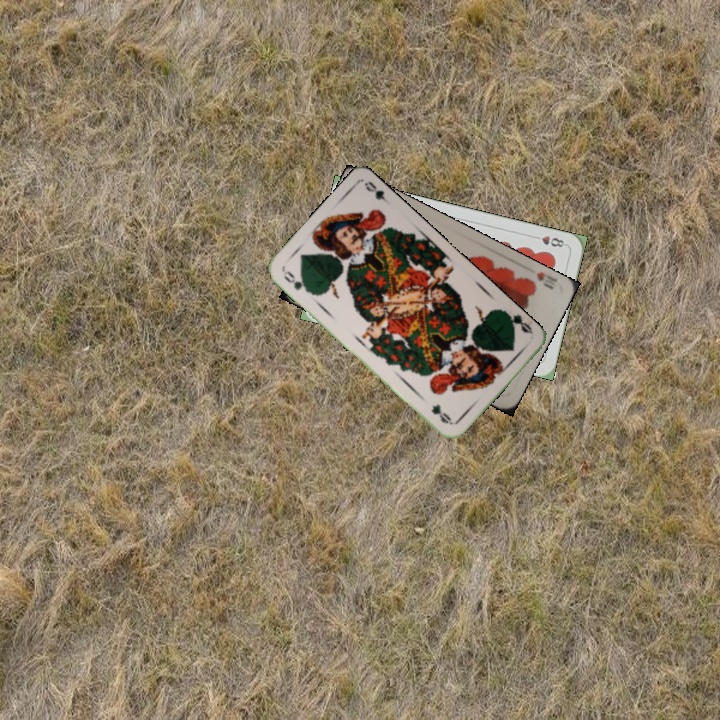GO: (279, 266, 314, 296), (500, 307, 535, 336)
H10: (532, 268, 560, 292)
H8: (529, 232, 569, 250)
